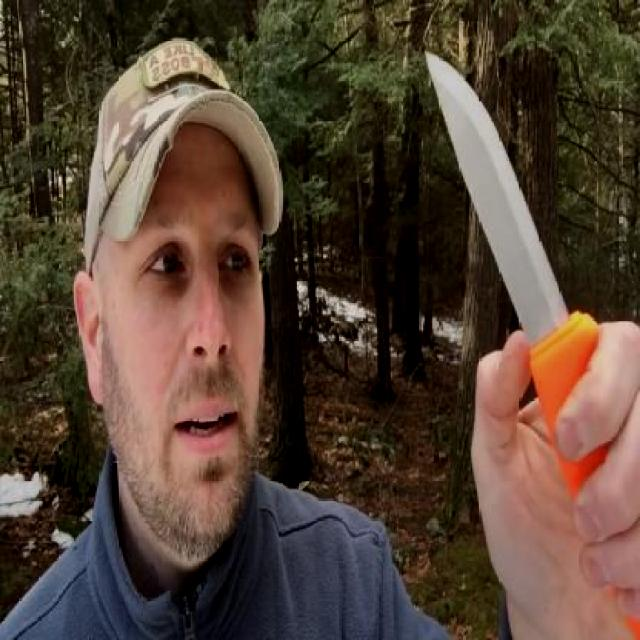knife: (419, 55, 623, 420)
